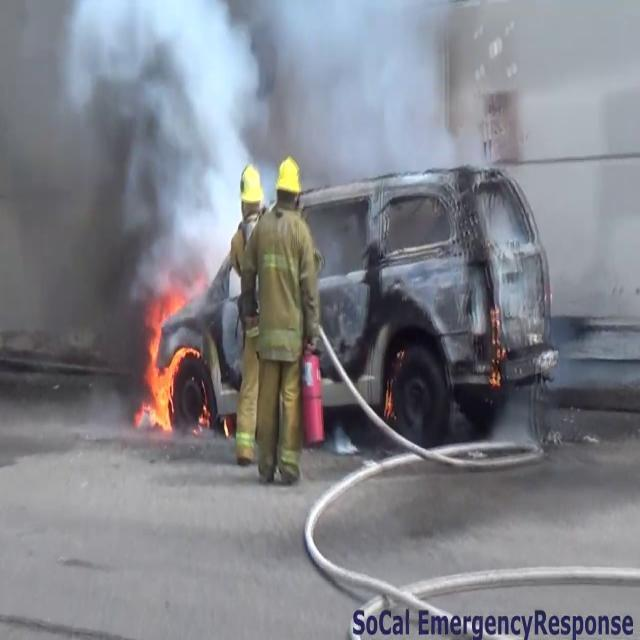Fire: (136, 300, 198, 437)
Smoke: (220, 1, 640, 327), (0, 0, 212, 395)
